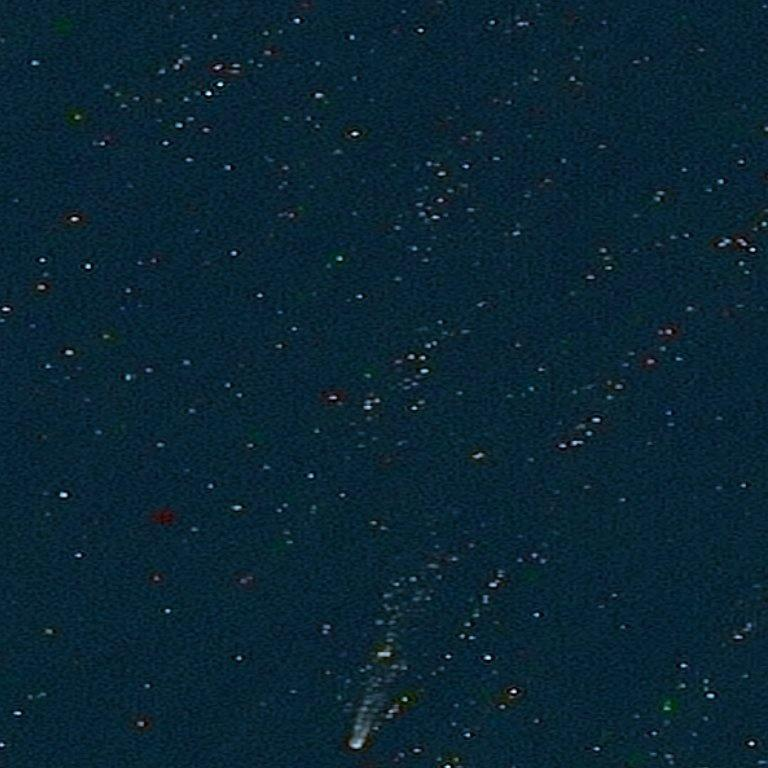ship: (345, 740, 362, 748)
